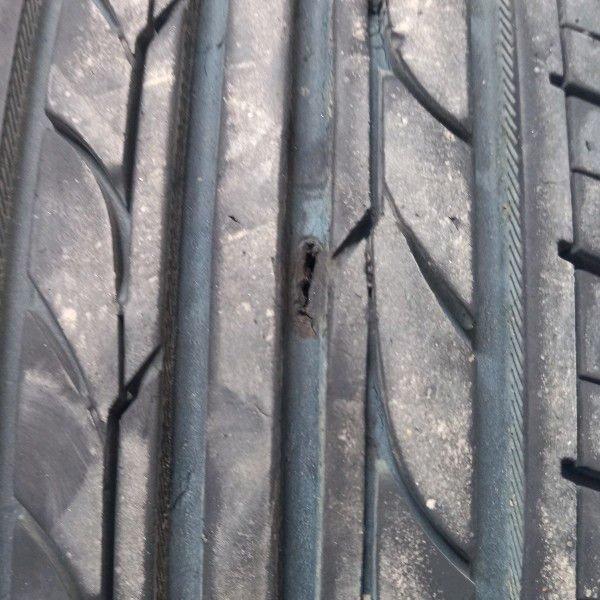tr: (293, 238, 328, 340)
